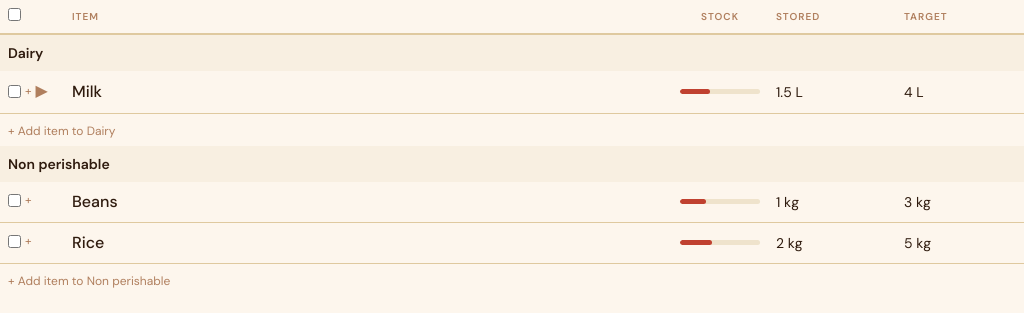
InventoryTable › category header rename › clicking a category header reveals an input pre-filled with the category name
Step 1. Click the text "Dairy" → click(26, 53), box [8, 43, 43, 63]
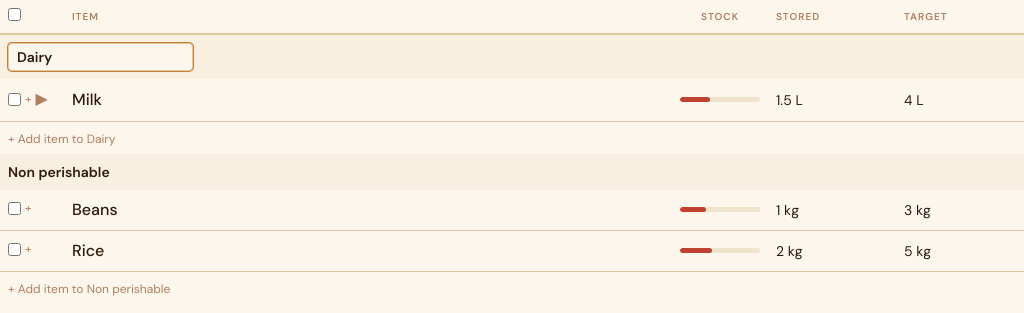
Expected: the field named "Rename category Dairy" holds "Dairy", [8, 43, 193, 71]
